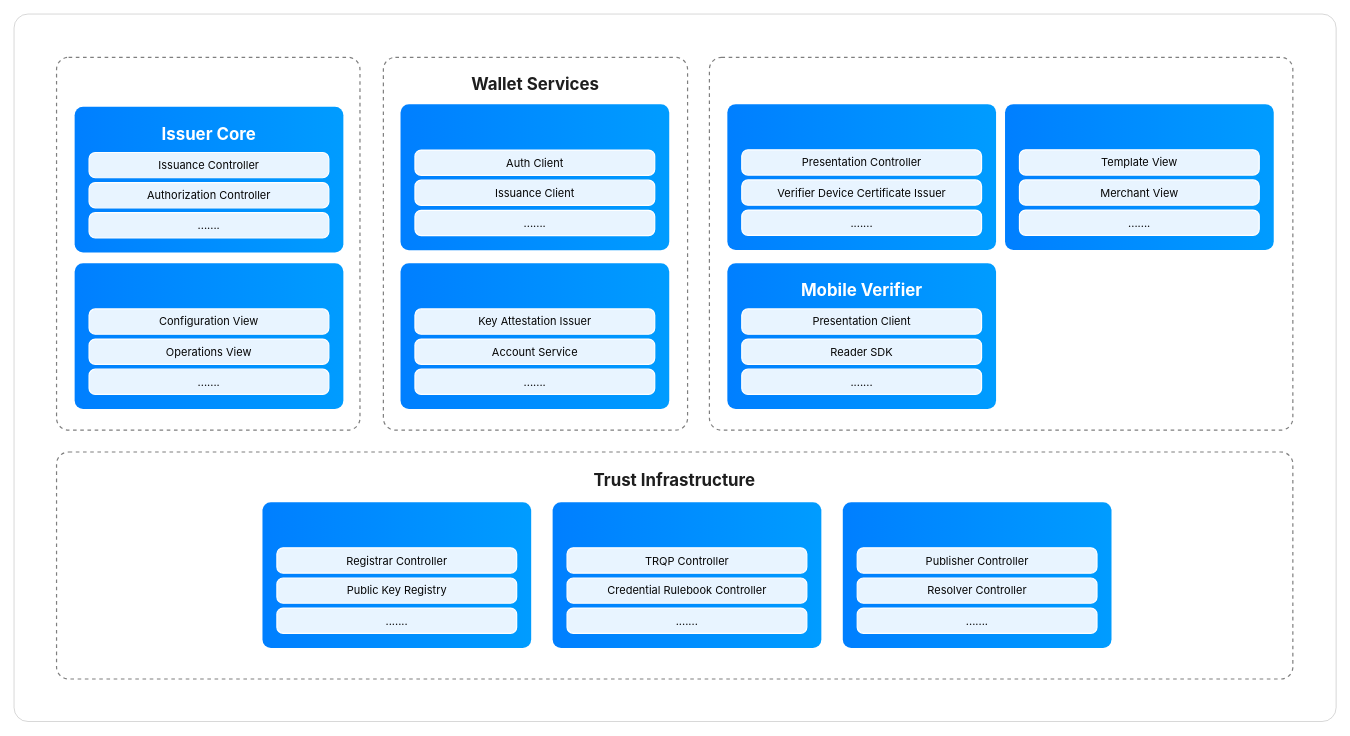
Some shapes in this 1350 by 736 pixel diagram are drawn without their labels. The shapes that lost their labels are listed below. From the top down, each one's box as (x1, y1, x2, y2) in pixels, then its label:
(400, 104, 669, 250): Mobile Wallet
(727, 104, 996, 250): Verifier Core
(1005, 104, 1273, 250): Verifier Console
(56, 56, 360, 430): Issuer Services
(708, 56, 1293, 430): Verifier Services
(74, 263, 343, 409): Issuer Console
(400, 263, 669, 409): Wallet Backend Service
(262, 502, 531, 648): Trust Authority
(552, 502, 821, 648): Trust Registry
(842, 502, 1111, 648): DID Service
